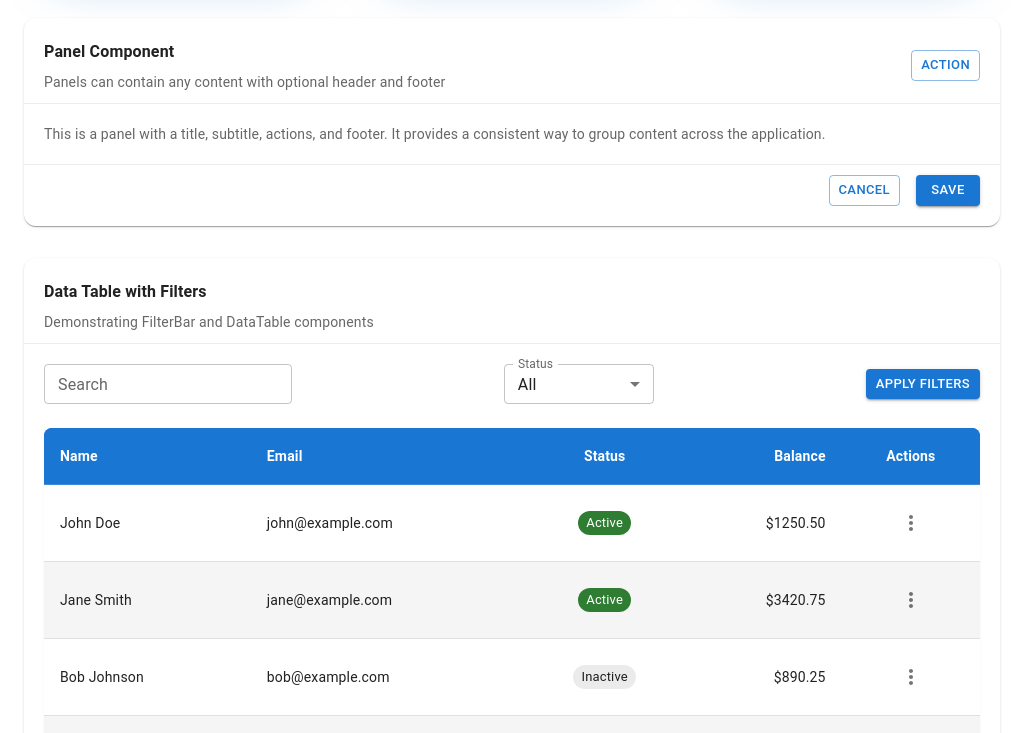
Test: ComponentShowcase Integration › shows empty message when no users match filters
(page scrolled)
# Search for non-existent user
Step 1. Type "nonexistent@test.com" into the field with placeholder "Search by name or email" → (168, 384), box [44,364,292,404]
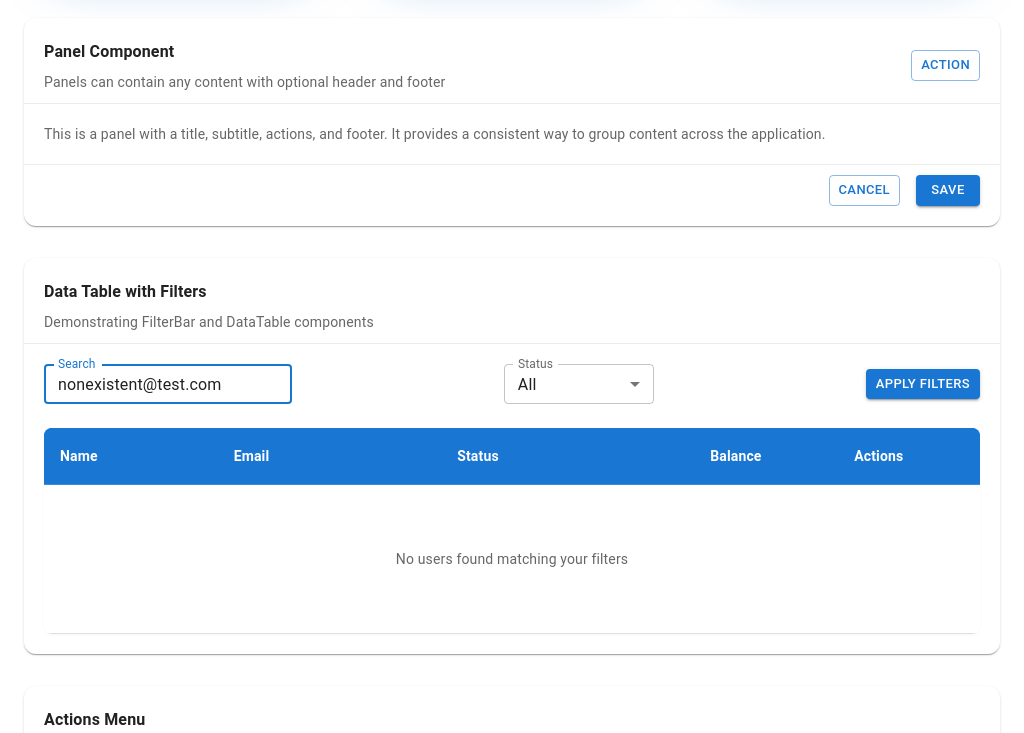
Now the text "No users found matching your filters" is shown, box [396,551,628,567]
